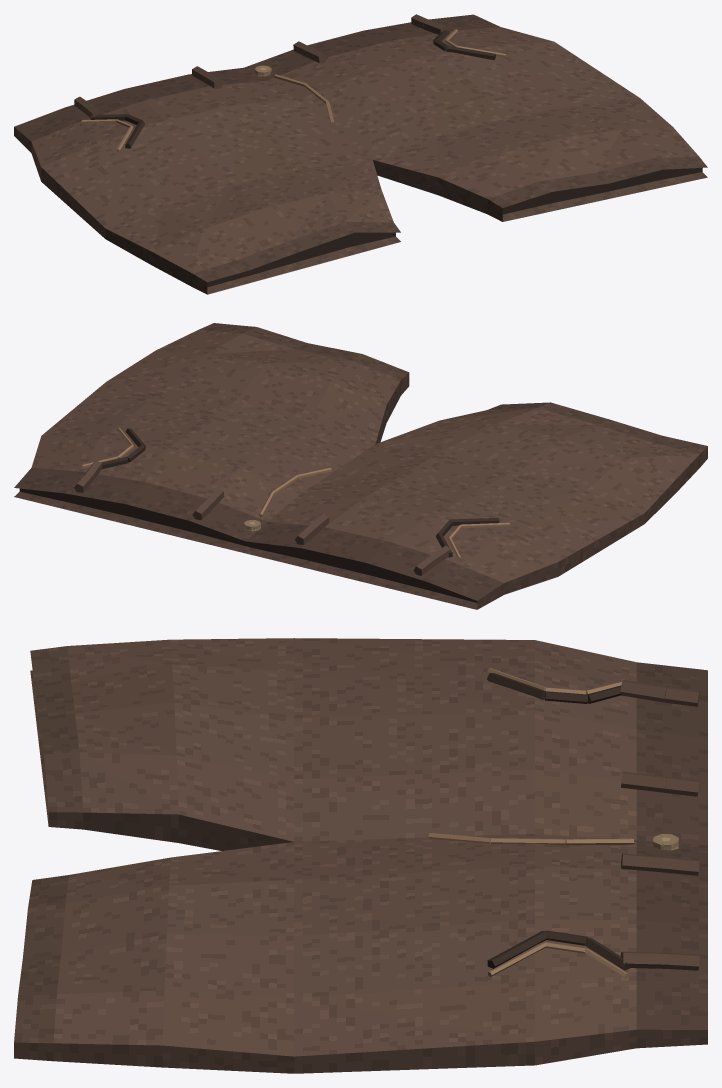
Rendered from hot_pants_leather.glb.
The picture shows the model from 3 angles, top to bottom: view 1: azimuth 30°, elevation 25°; view 2: azimuth 150°, elevation 25°; view 3: azimuth 270°, elevation 25°; orthographic projection. The views are drawn at different scales.
Parts seen in each view (by area): view 1: block_sewn shorts with open waist and cuffs; view 2: block_sewn shorts with open waist and cuffs; view 3: block_sewn shorts with open waist and cuffs, block_belt loop 1 (×4), block_front pocket opening 2.
Part boxes in pixels (bbox=[...]): block_sewn shorts with open waist and cuffs: bbox=[14, 14, 707, 294]; block_sewn shorts with open waist and cuffs: bbox=[14, 323, 707, 609]; block_sewn shorts with open waist and cuffs: bbox=[14, 638, 707, 1073]; block_belt loop 1 (×4): bbox=[620, 680, 667, 968]; block_front pocket opening 2: bbox=[487, 931, 547, 968].
Bounding box in the file's own units: 0.365 × 0.0236 × 0.2558.
Materials: 1 (1 with a texture image).
